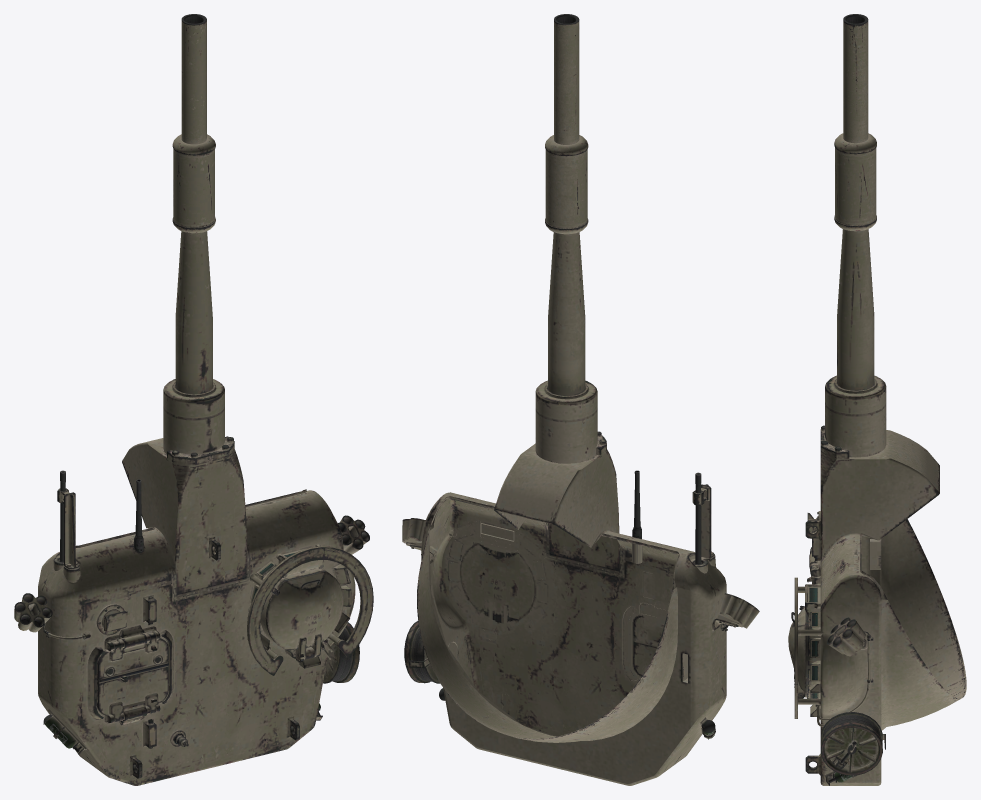
The model's file is Gun_01.glb.
The picture shows the model from 3 angles, left to right: view 1: azimuth 30°, elevation 25°; view 2: azimuth 150°, elevation 25°; view 3: azimuth 270°, elevation 25°; orthographic projection.
Visible parts, largest first — view 1: set_0_group_0; view 2: set_0_group_0; view 3: set_0_group_0.
Boxes of the visible parts, left/top/right/bottom form: set_0_group_0: left=14, top=14, right=373, bottom=785; set_0_group_0: left=402, top=14, right=759, bottom=785; set_0_group_0: left=788, top=14, right=966, bottom=785.
Bounding box in the file's own units: 2.56 × 5.15 × 1.14.
1 material, 1 textured.
